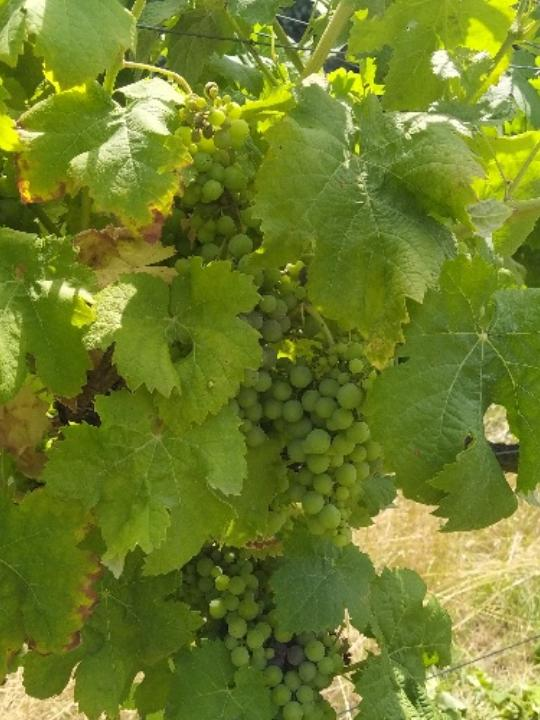grape: (235, 348, 381, 560)
